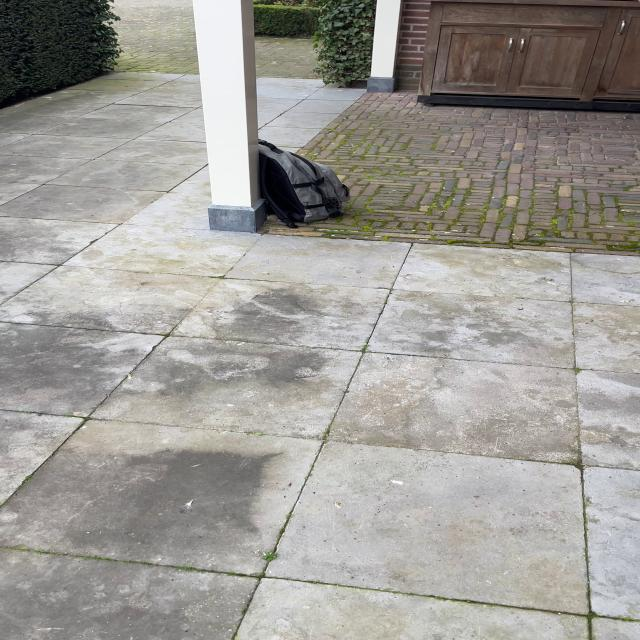backpack: (247, 138, 354, 230)
